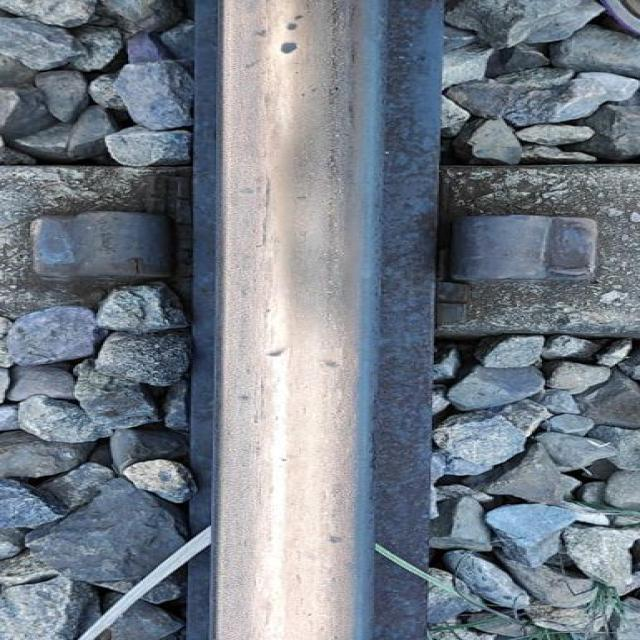Missing Fastener: (418, 183, 620, 303), (5, 201, 191, 296)
